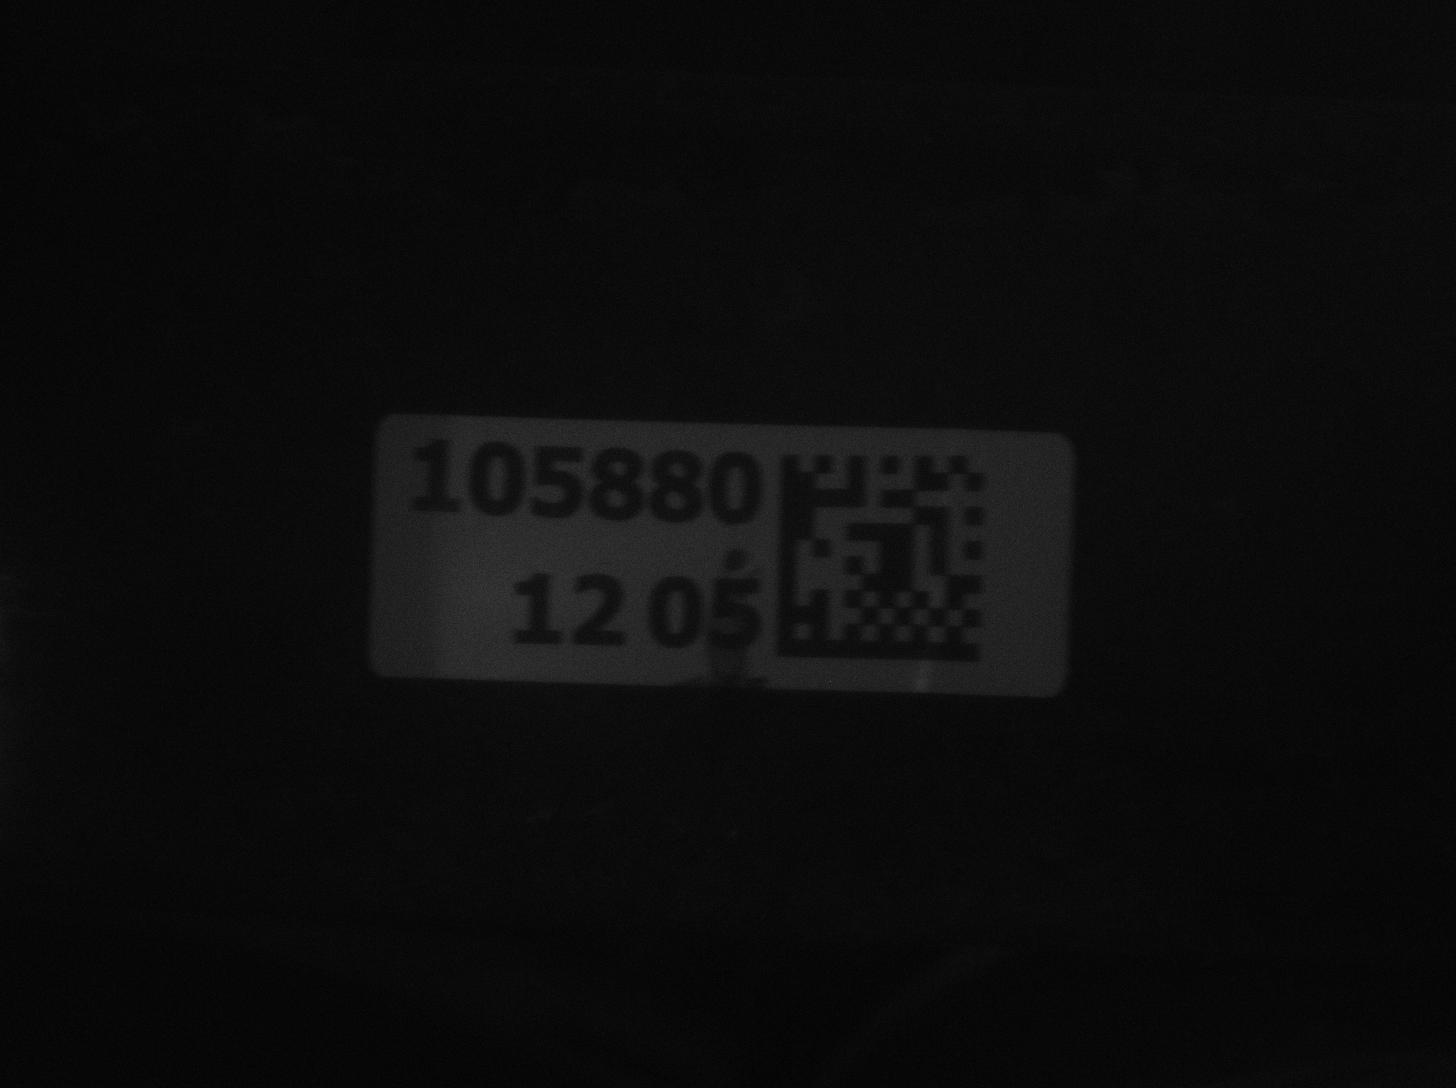data matrix: (763, 434, 1010, 678)
